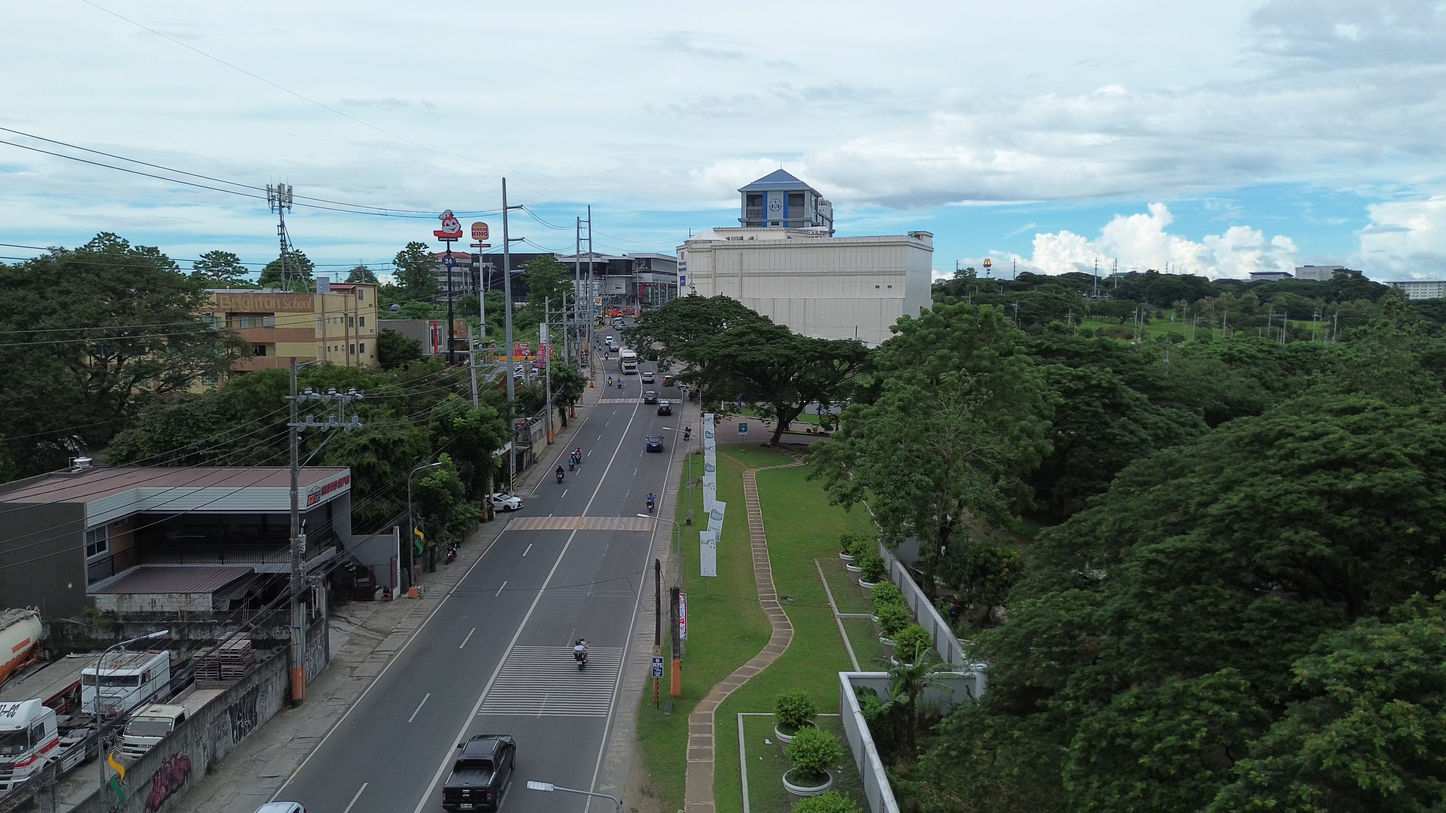car: (488, 492, 523, 512), (646, 434, 663, 452), (643, 390, 657, 404), (641, 371, 654, 383)
motorcycle: (445, 545, 456, 564), (556, 467, 564, 484), (569, 457, 576, 471)
truck: (121, 685, 224, 758)
vehicle: (0, 699, 60, 795), (82, 650, 170, 715), (442, 735, 516, 810), (121, 704, 187, 759), (0, 609, 43, 684), (255, 801, 307, 813), (619, 349, 638, 375), (656, 399, 672, 416)
